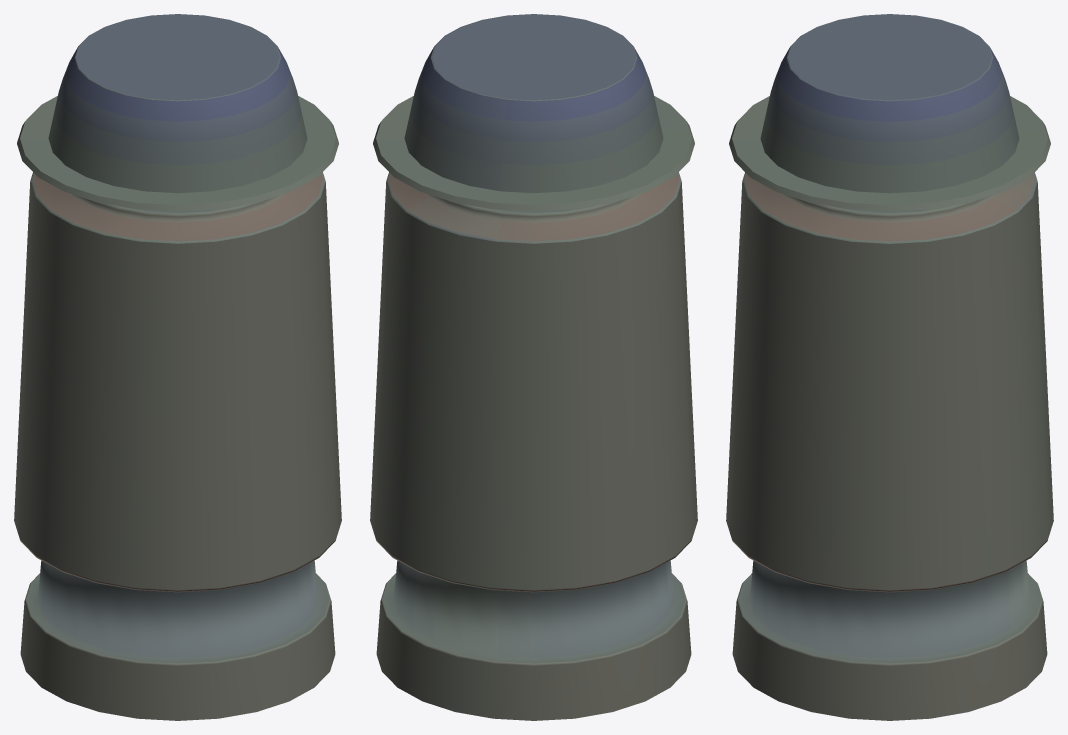
Rendered from Tile_Player.fbx.
The picture shows the model from 3 angles, left to right: view 1: azimuth 30°, elevation 25°; view 2: azimuth 150°, elevation 25°; view 3: azimuth 270°, elevation 25°; orthographic projection.
Parts seen in each view (by area): view 1: Cylinder; view 2: Cylinder; view 3: Cylinder.
Boxes of the visible parts, x1,y1,x2,y2 form: Cylinder: (14, 14, 341, 720); Cylinder: (370, 14, 697, 720); Cylinder: (726, 14, 1053, 720).
Bounding box in the file's own units: 133 × 267 × 133.
